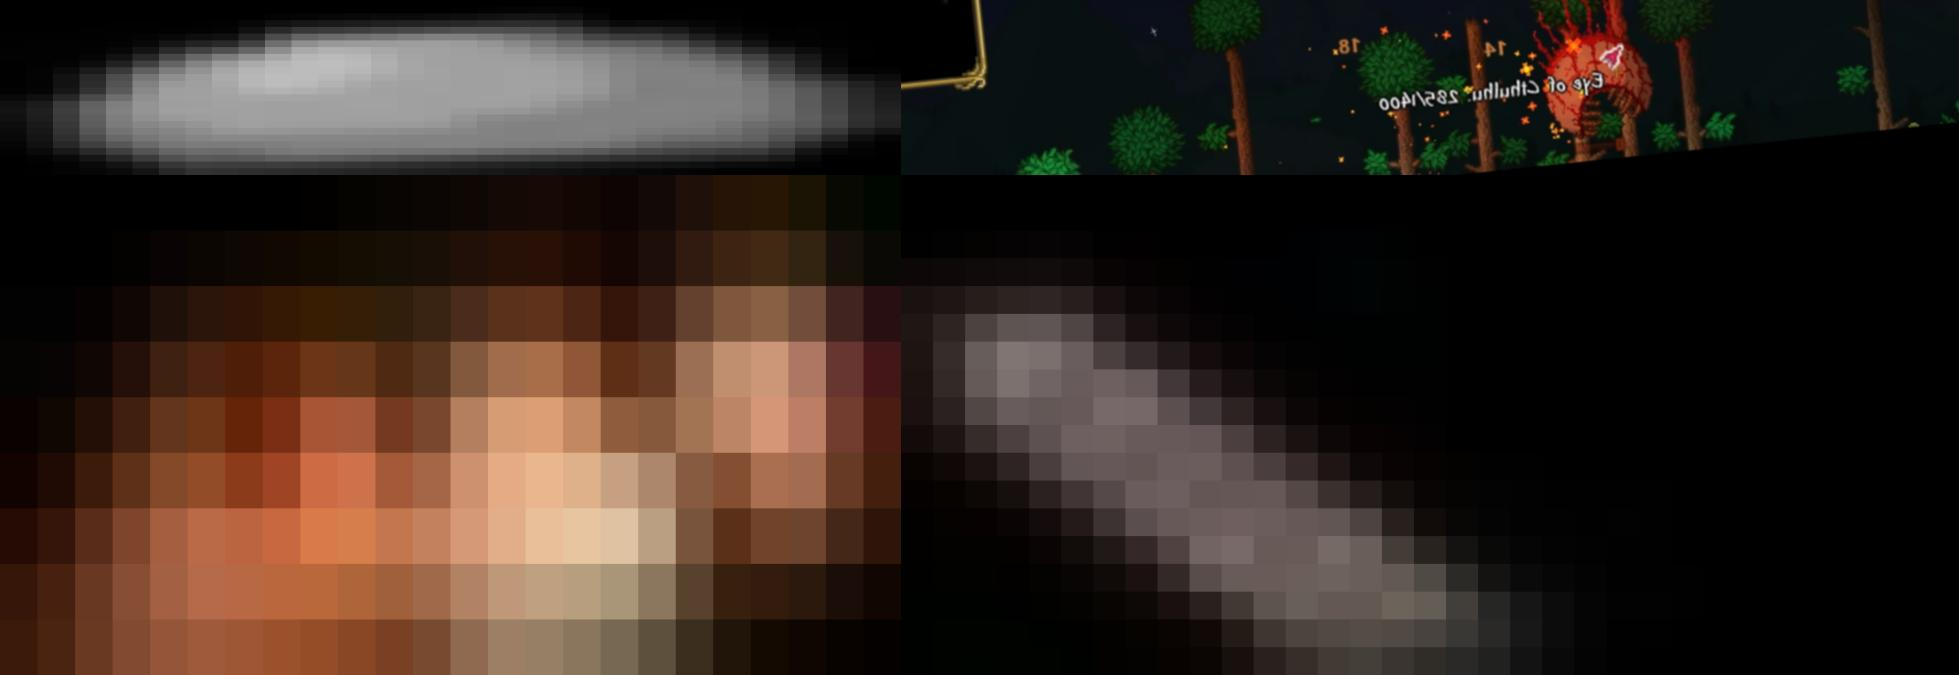eyeC: (1515, 0, 1660, 149)
helmet: (0, 175, 901, 675)
slime: (0, 0, 901, 175)
sword: (901, 175, 1959, 675)
